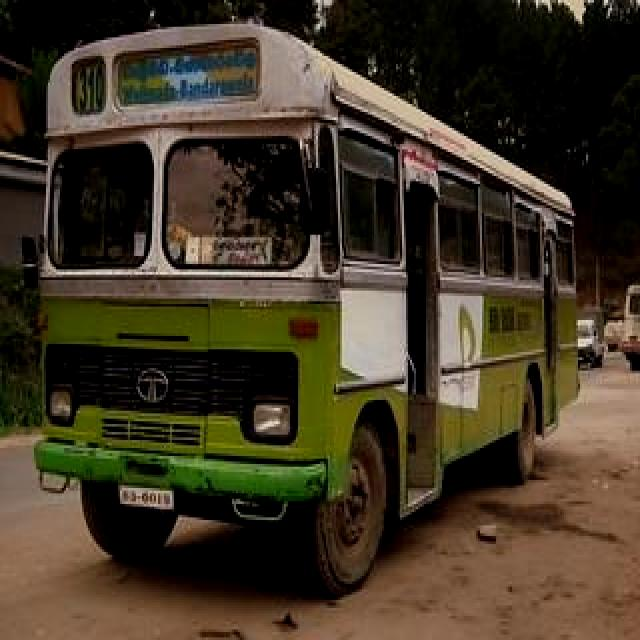Bus: (33, 174, 560, 427)
